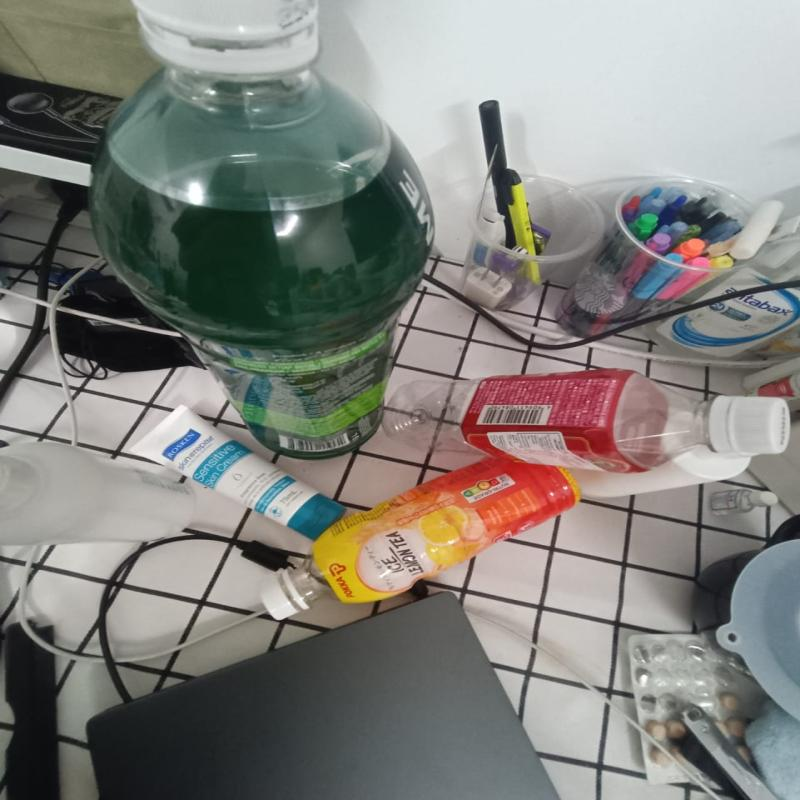botella: (96, 0, 432, 465), (262, 451, 586, 622), (389, 370, 784, 470)
